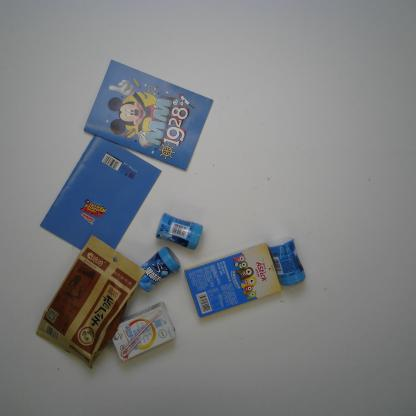Dessert: (184, 237, 307, 320)
Dried Food: (34, 232, 146, 370)
Gum: (134, 245, 182, 294), (267, 236, 307, 286), (154, 212, 205, 251)
Milk: (110, 300, 178, 363)
Stationery: (36, 133, 164, 257), (81, 58, 216, 173)
